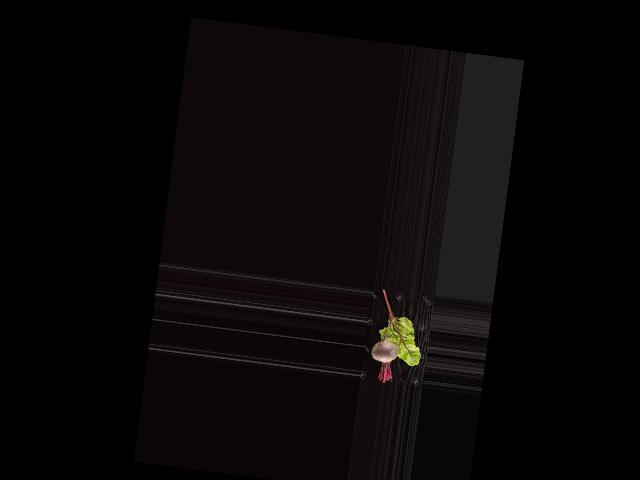beet: (367, 314, 402, 384)
